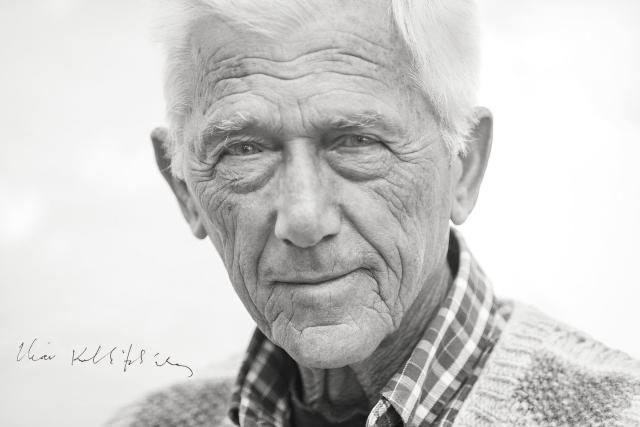chin: (300, 315, 344, 335), (270, 304, 290, 326)
crows_feet: (187, 152, 216, 192), (382, 140, 420, 164)
forehead: (334, 45, 388, 87), (265, 47, 323, 86), (205, 56, 258, 96)
frown_line: (290, 101, 314, 131)
gummy_smile: (343, 210, 377, 247), (252, 238, 270, 284)
masseter: (218, 212, 248, 272), (379, 186, 413, 229), (238, 282, 264, 318), (394, 244, 408, 302)
sad_smile: (364, 272, 391, 318)
